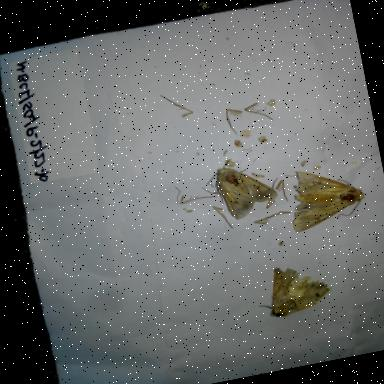abw: (276, 156, 377, 244), (245, 252, 350, 326), (208, 156, 284, 230)
